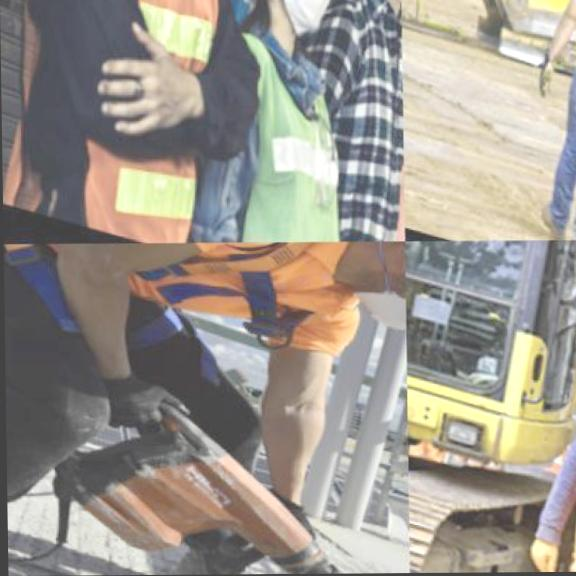safety_vest: (1, 0, 275, 243), (175, 10, 386, 242), (14, 242, 372, 354), (339, 92, 403, 240)
